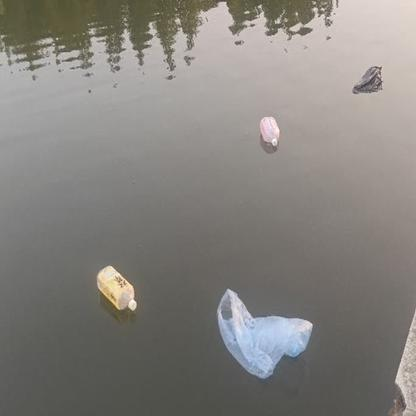plastic bag: (216, 289, 314, 378), (353, 66, 385, 93)
plastic bottle: (95, 265, 138, 311), (259, 117, 281, 145)
